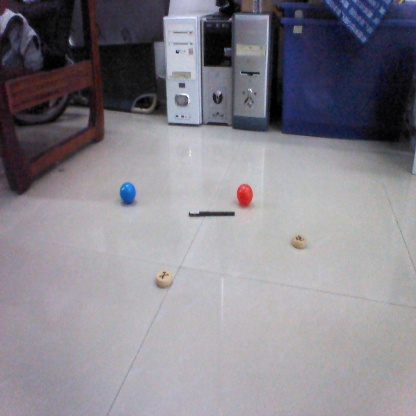ball: (234, 181, 257, 207), (118, 180, 138, 204)
chess: (154, 269, 173, 287), (291, 234, 308, 248)
pen: (187, 210, 237, 219)
